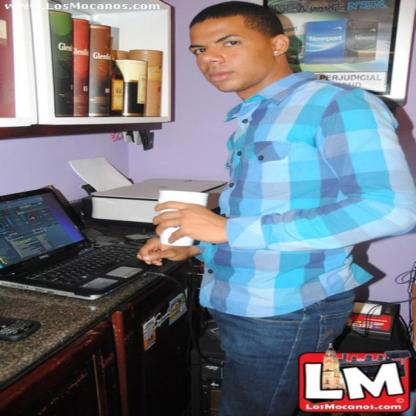board: (0, 185, 163, 300), (160, 190, 208, 248)
